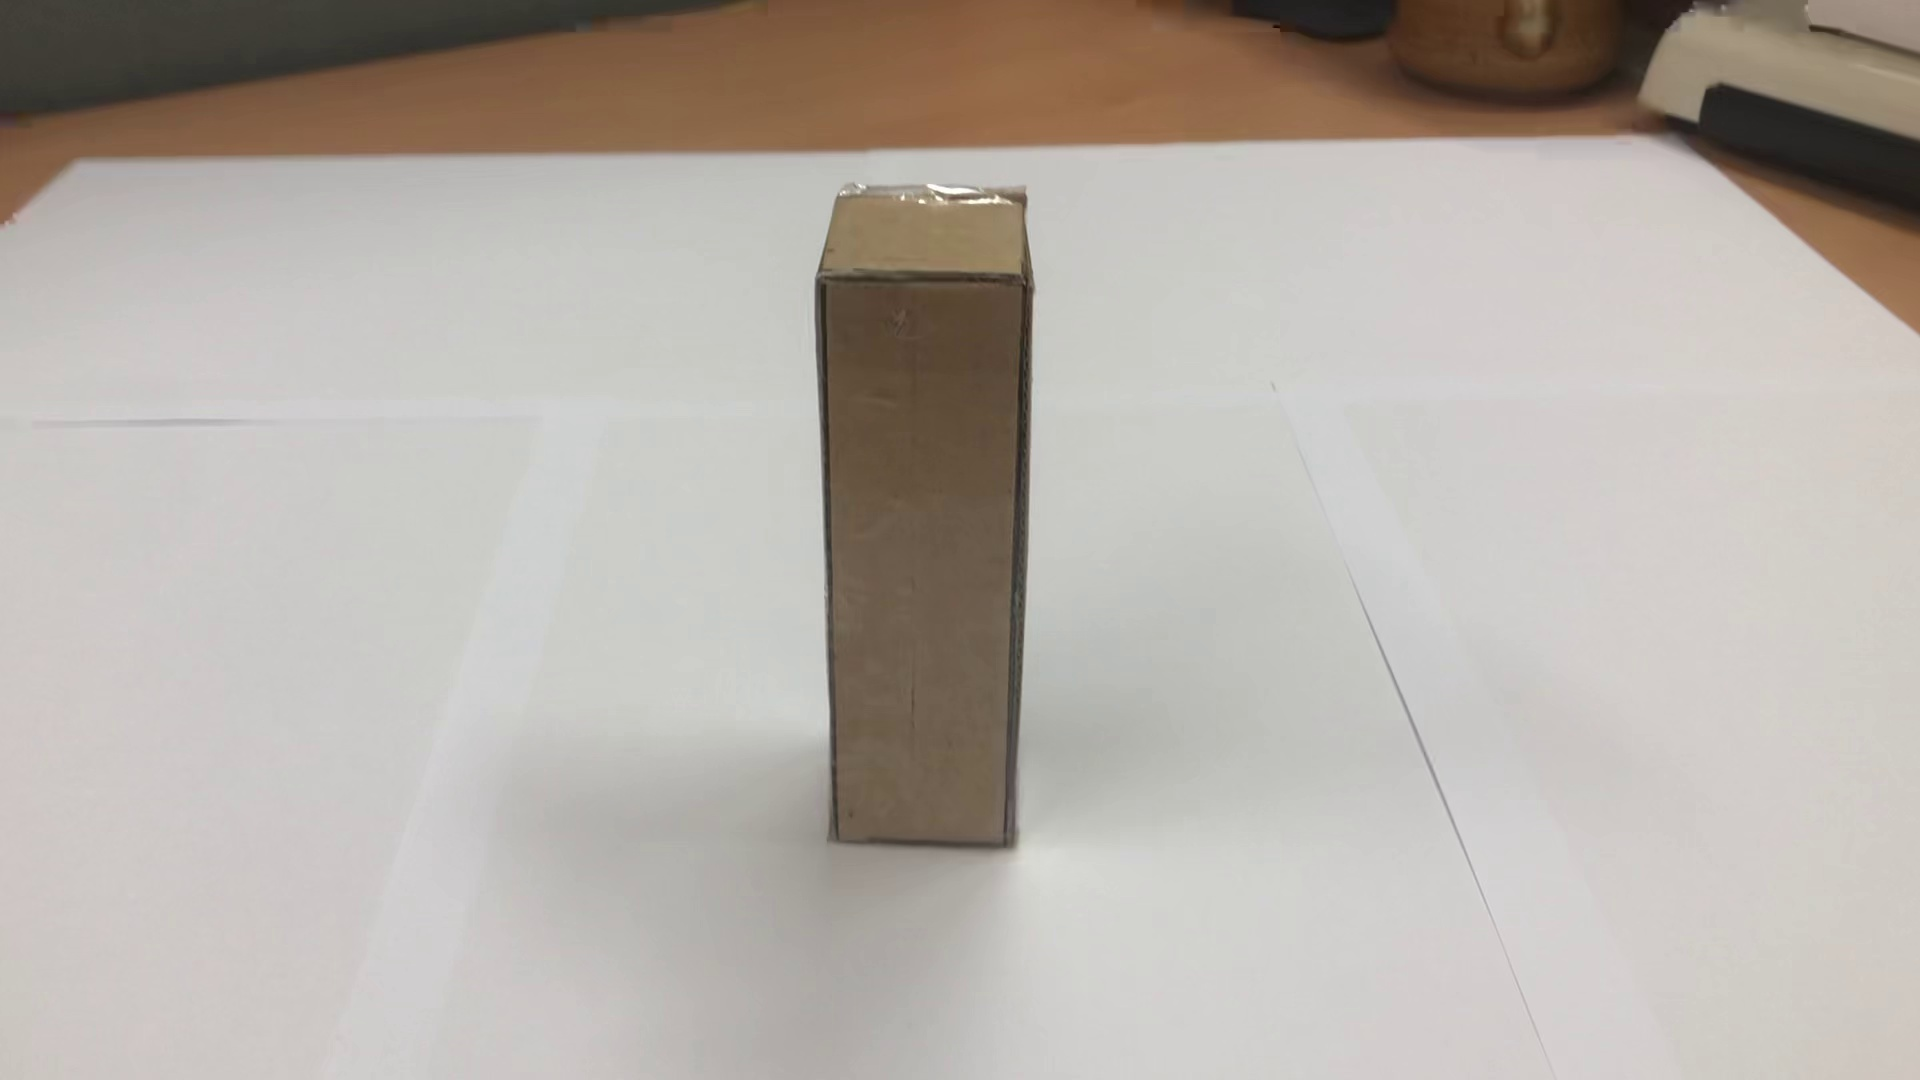box: (785, 156, 1072, 881)
